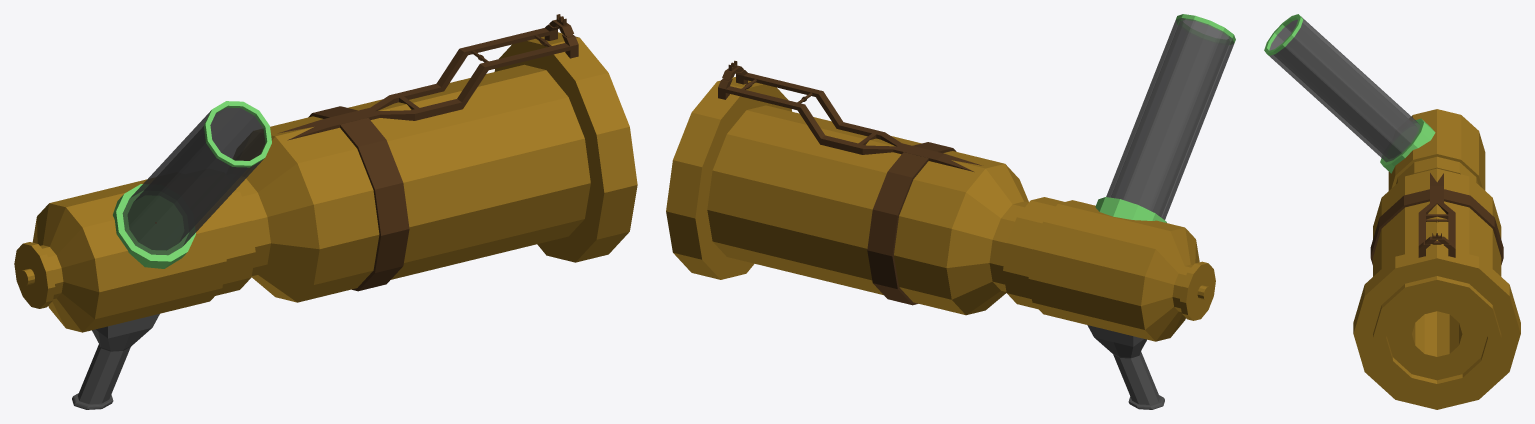
The model's file is Blaster.fbx.
The picture shows the model from 3 angles, left to right: view 1: azimuth 30°, elevation 25°; view 2: azimuth 150°, elevation 25°; view 3: azimuth 270°, elevation 25°; orthographic projection. The views are drawn at different scales.
Parts seen in each view (by area): view 1: Gun, View; view 2: Gun, View; view 3: Gun, View.
Boxes of the visible parts, bbox=[...] form: Gun: bbox=[14, 32, 637, 409]; View: bbox=[278, 14, 578, 140]; Gun: bbox=[666, 14, 1235, 409]; View: bbox=[718, 60, 981, 171]; Gun: bbox=[1264, 14, 1520, 409]; View: bbox=[1418, 173, 1455, 257].
Size of the model in its own units: 737 by 448 by 400.
